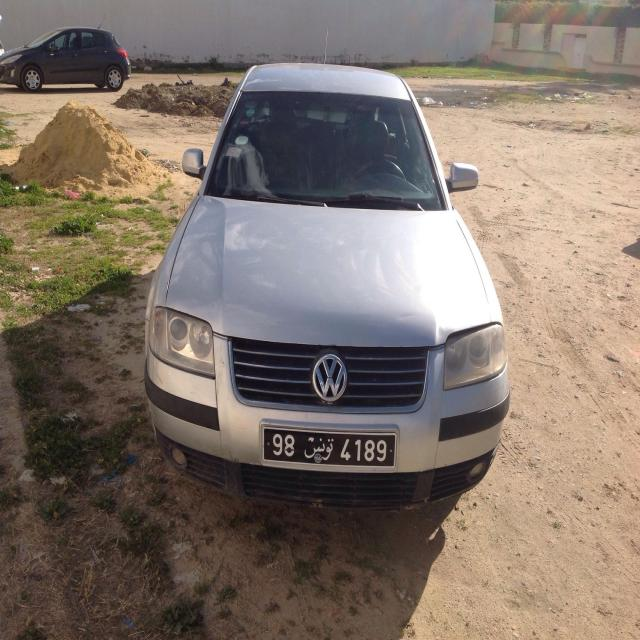LP: (262, 424, 396, 470)
